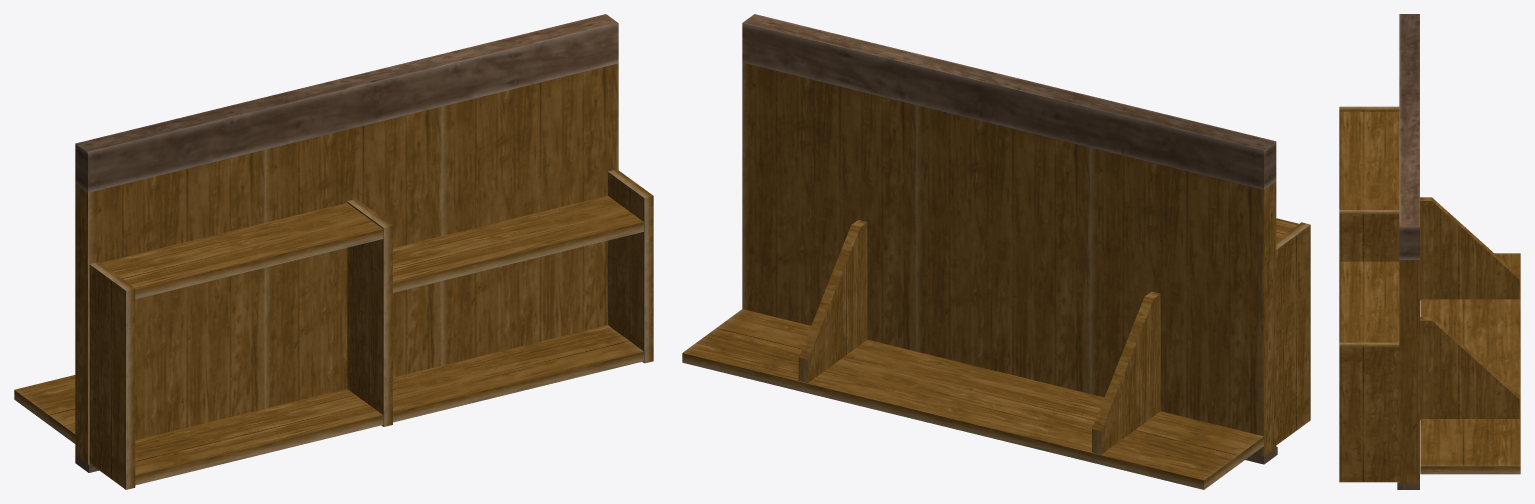
Rendered from kitcentop02a.fbx.
3 views of the same model, side by side, from view 1: azimuth 30°, elevation 25°; view 2: azimuth 150°, elevation 25°; view 3: azimuth 270°, elevation 25° (orthographic). The views are drawn at different scales.
Parts seen in each view (by area): view 1: kitcentop02a; view 2: kitcentop02a; view 3: kitcentop02a.
Boxes of the visible parts, <box> form: kitcentop02a: <box>14,14,653,489</box>; kitcentop02a: <box>682,14,1310,489</box>; kitcentop02a: <box>1339,14,1520,489</box>.
Size of the model in its own units: 1.85 by 1.07 by 0.6666.
